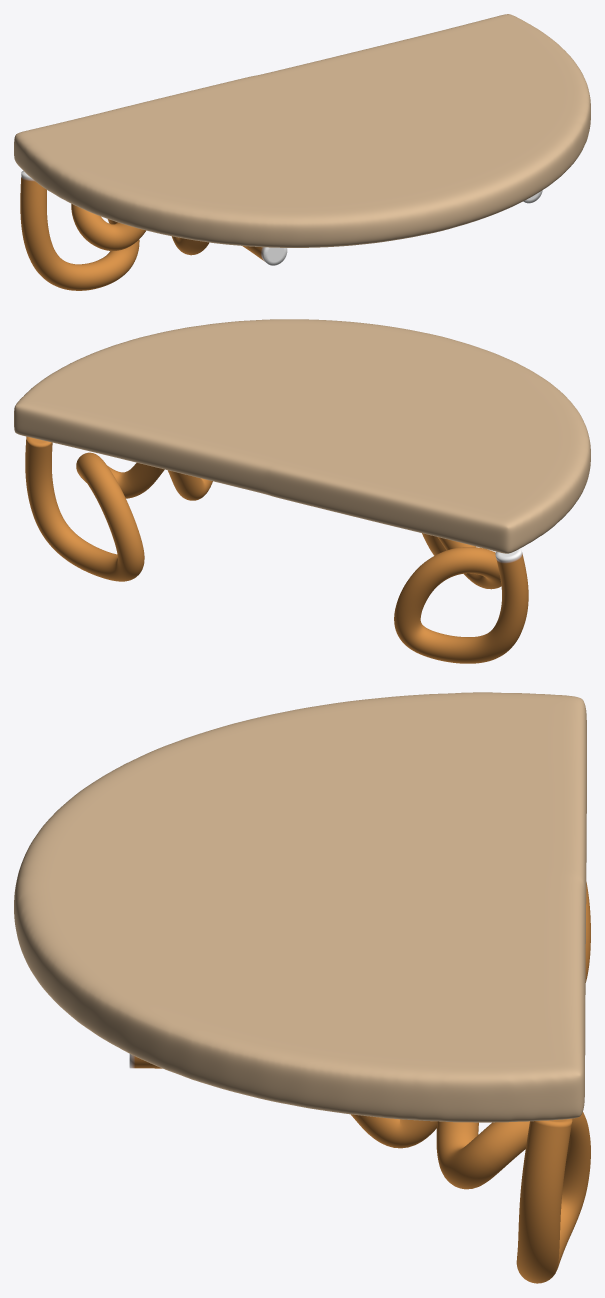
The model's file is shelf 9.glb.
3 renders of one model, top to bottom at view 1: azimuth 30°, elevation 25°; view 2: azimuth 150°, elevation 25°; view 3: azimuth 270°, elevation 25°, orthographic. The views are drawn at different scales.
Parts seen in each view (by area): view 1: Cylinder, Mesh; view 2: Cylinder, Mesh (×2); view 3: Cylinder, Mesh.
Part boxes in pixels (left/top/right/bottom): Cylinder: left=14, top=14, right=590, bottom=247; Mesh: left=20, top=171, right=287, bottom=290; Cylinder: left=14, top=319, right=590, bottom=553; Mesh (×2): left=25, top=436, right=528, bottom=663; Cylinder: left=14, top=692, right=586, bottom=1122; Mesh: left=129, top=1054, right=590, bottom=1283.
Bounding box in the file's own units: 1.55 × 0.47 × 0.9632.
